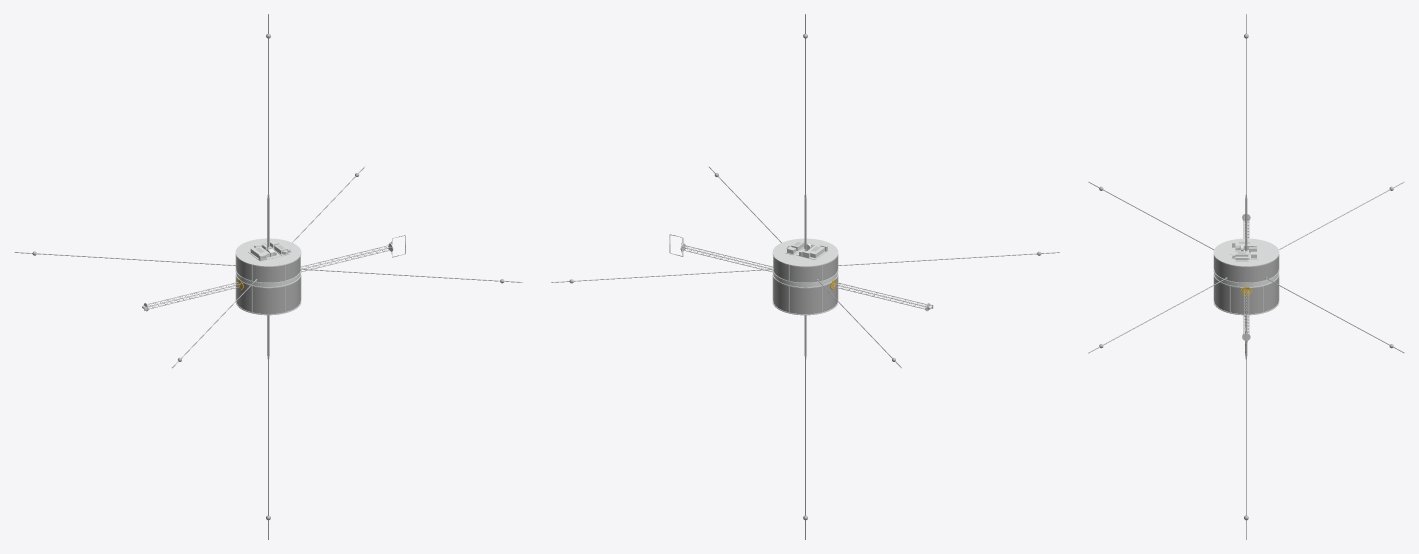
The model's file is polar.glb.
3 views of the same model, side by side, from view 1: azimuth 30°, elevation 25°; view 2: azimuth 150°, elevation 25°; view 3: azimuth 270°, elevation 25° (orthographic).
Parts seen in each view (by area): view 1: mesh_0; view 2: mesh_0; view 3: mesh_0.
Part boxes in pixels (box(x1,y1,x2,y2)): mesh_0: box(14, 14, 522, 539); mesh_0: box(551, 14, 1059, 539); mesh_0: box(1088, 14, 1404, 539).
Size of the model in its own units: 18.82 by 26.93 by 14.7.
Materials: 2 (2 with a texture image).
